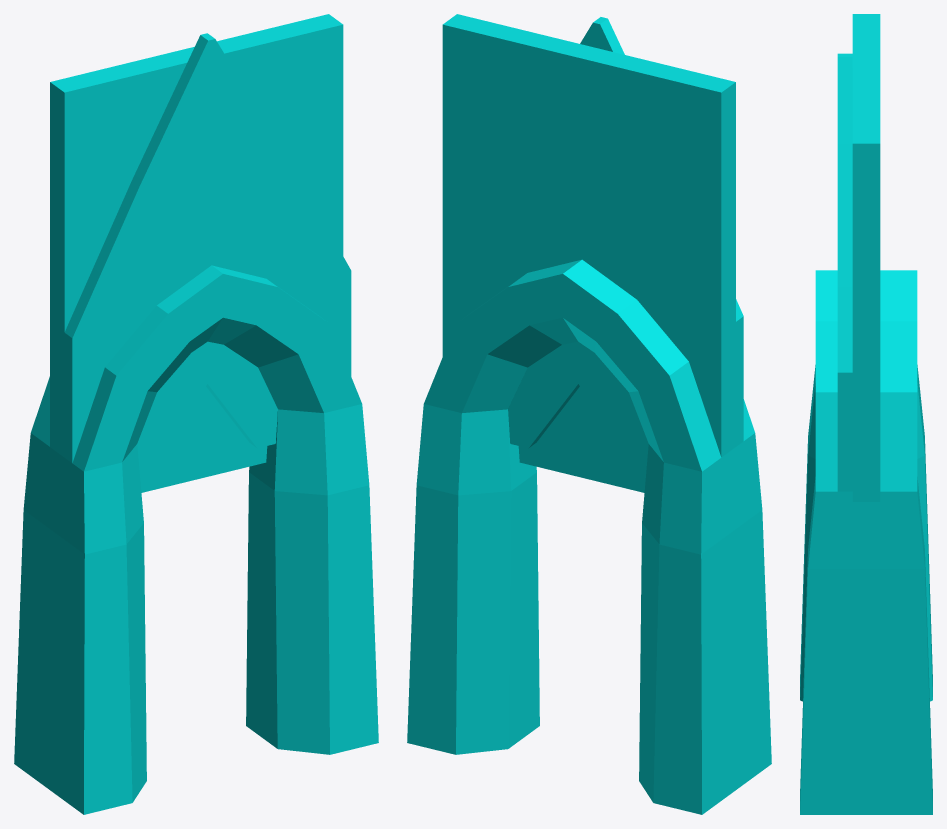
The model's file is SM_Bld_Wall_Door_Large_01_Collision.fbx.
The picture shows the model from 3 angles, left to right: view 1: azimuth 30°, elevation 25°; view 2: azimuth 150°, elevation 25°; view 3: azimuth 270°, elevation 25°; orthographic projection. The views are drawn at different scales.
Parts seen in each view (by area): view 1: SM_Bld_Wall_Door_Large_01_Collision; view 2: SM_Bld_Wall_Door_Large_01_Collision; view 3: SM_Bld_Wall_Door_Large_01_Collision.
Boxes of the visible parts, x1=… form: SM_Bld_Wall_Door_Large_01_Collision: x1=14, y1=14, x2=378, y2=814; SM_Bld_Wall_Door_Large_01_Collision: x1=407, y1=14, x2=771, y2=814; SM_Bld_Wall_Door_Large_01_Collision: x1=800, y1=14, x2=932, y2=814.
Size of the model in its own units: 265 by 621 by 108.
